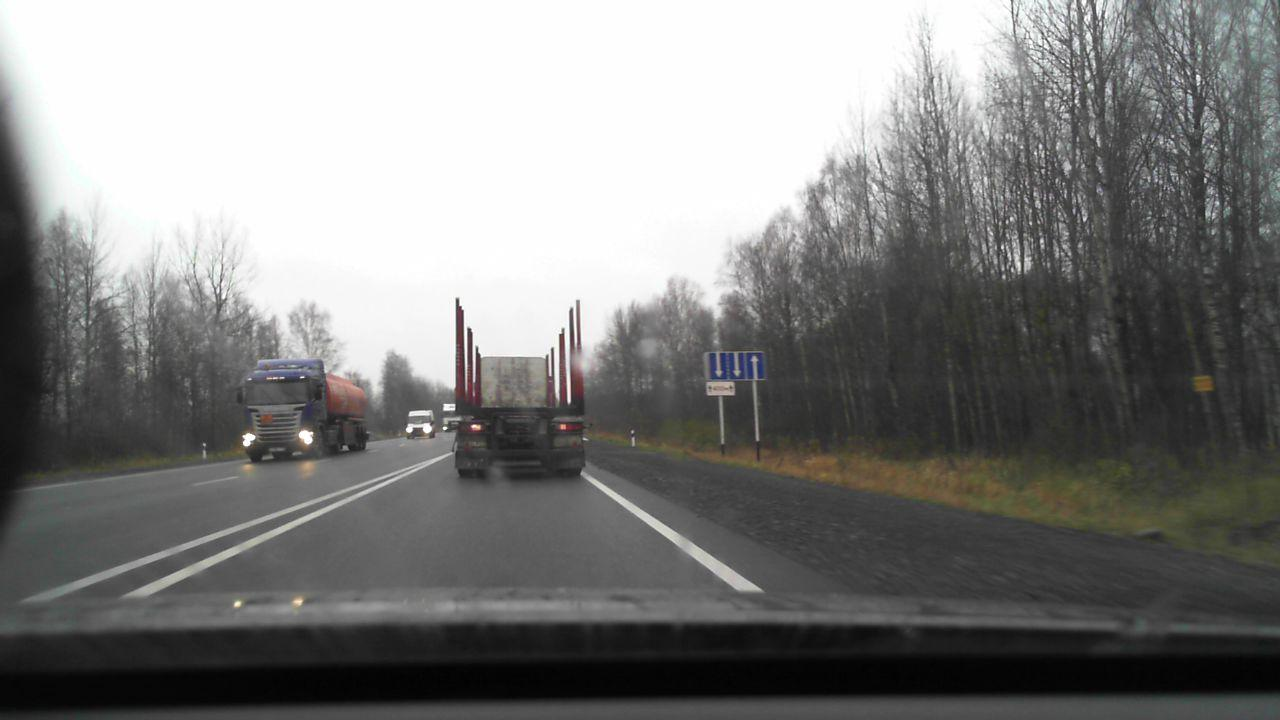5_15_7: (705, 351, 766, 380)
8_2_1: (706, 382, 736, 397)
